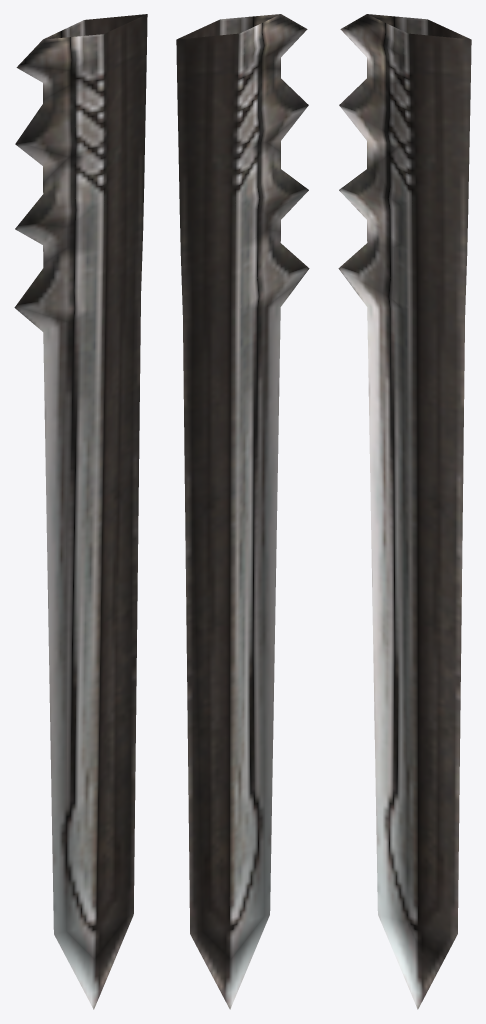
The model's file is Erxingduanjian_body.FBX.
3 renders of one model, left to right at view 1: azimuth 30°, elevation 25°; view 2: azimuth 210°, elevation 25°; view 3: azimuth 330°, elevation 25°, orthographic.
Parts seen in each view (by area): view 1: Erxingduanjian_body; view 2: Erxingduanjian_body; view 3: Erxingduanjian_body.
Part boxes in pixels (box(x1,y1,x2,y2)): Erxingduanjian_body: box(14, 14, 147, 1009); Erxingduanjian_body: box(176, 14, 309, 1009); Erxingduanjian_body: box(338, 14, 471, 1009).
Bounding box in the file's own units: 7.52 × 53.04 × 1.9.
1 material, 1 textured.
